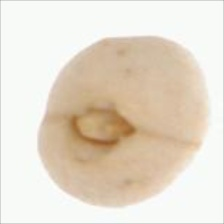L3: (63, 104, 142, 145)
L4: (37, 36, 209, 208)
